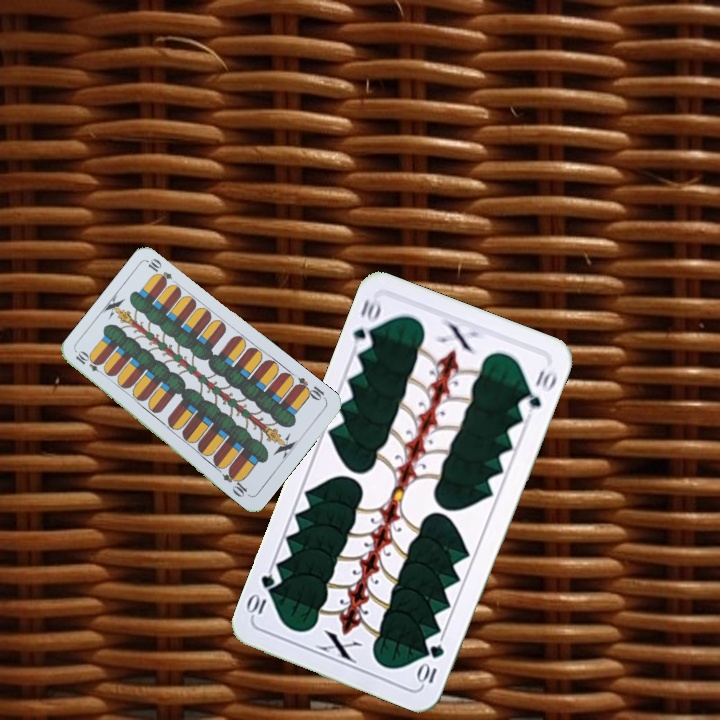E10: (291, 373, 329, 403), (71, 348, 108, 378)
G10: (348, 294, 384, 354), (414, 640, 447, 688)
